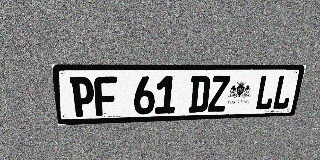1: (155, 76, 177, 114)
6: (134, 76, 155, 115)
D: (188, 76, 211, 113)
F: (94, 76, 117, 116)
L: (254, 75, 278, 110), (271, 75, 295, 110)
P: (69, 77, 95, 117)
Z: (207, 76, 231, 112)
